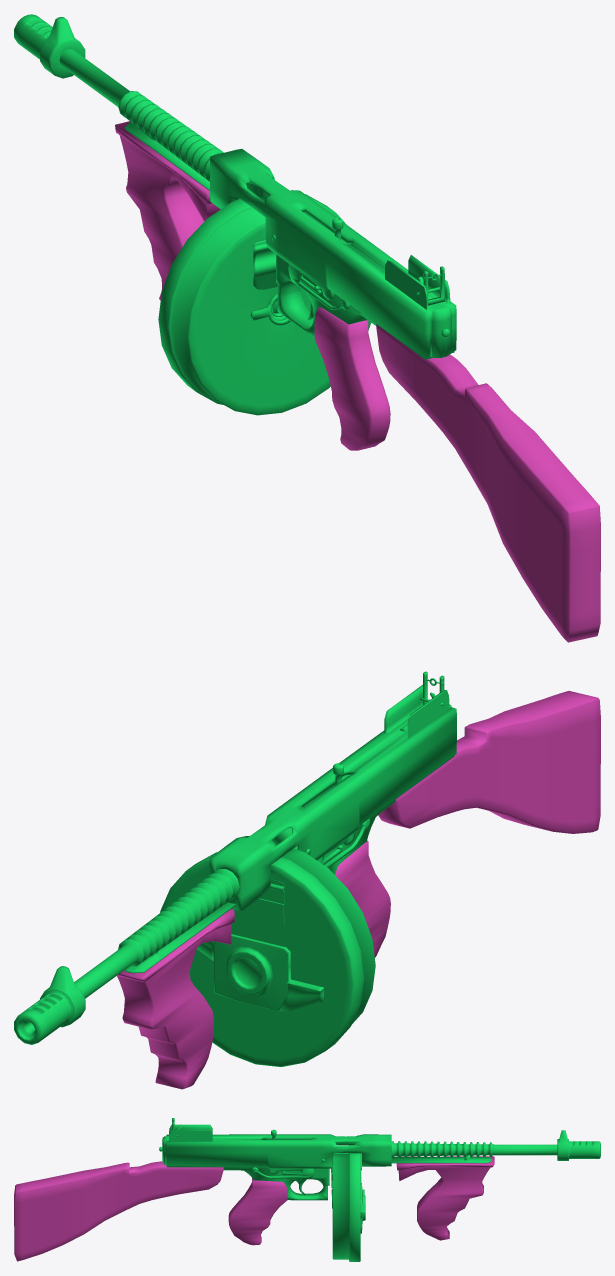
File: thompson_low.fbx
3 renders of one model, top to bottom at view 1: azimuth 30°, elevation 25°; view 2: azimuth 150°, elevation 25°; view 3: azimuth 270°, elevation 25°, orthographic. The views are drawn at different scales.
Visible parts, largest first — view 1: Low_poly.002; view 2: Low_poly.002; view 3: Low_poly.002.
Part boxes in pixels (x1,y1,x2,y2): Low_poly.002: (14,14,600,642); Low_poly.002: (14,671,600,1089); Low_poly.002: (14,1118,600,1261).
Size of the model in its own units: 1.96 by 2.48 by 9.62.
